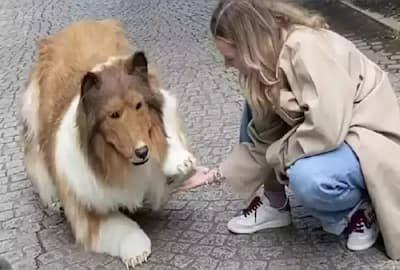adult_dog: (16, 17, 200, 269)
non-dog: (176, 1, 400, 259)
